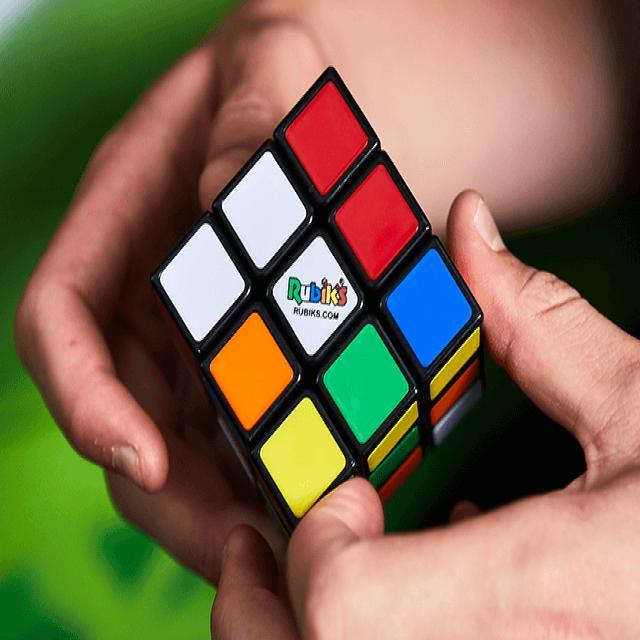Rub: (152, 66, 497, 537)
